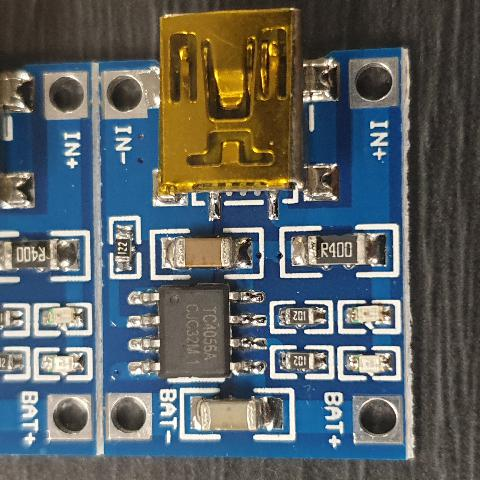batt+: (352, 394, 412, 442), (40, 394, 86, 440)
batt-: (101, 391, 152, 440)
charge: (332, 298, 404, 330), (28, 304, 72, 334)
done: (336, 348, 396, 380), (30, 348, 88, 378)
rprog: (108, 218, 129, 274)
usb: (166, 10, 297, 190)
